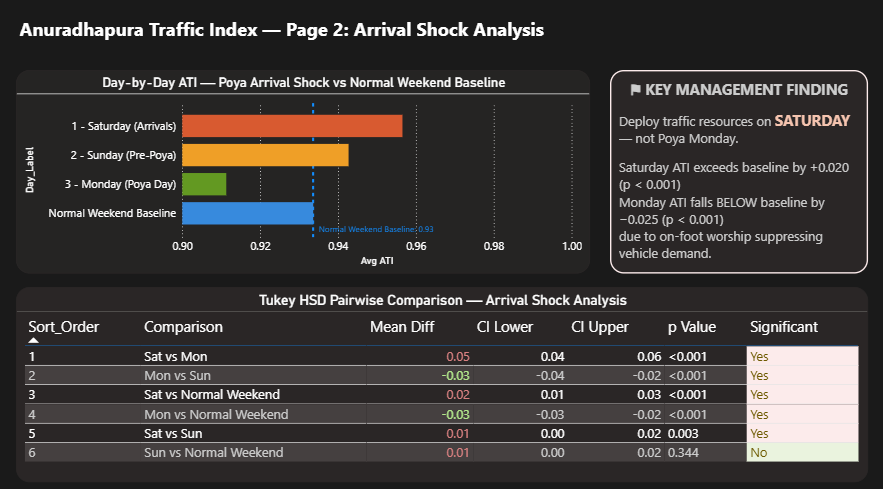

What the dashboard file says about the page in this screenshot:
{"tool":"powerbi","page":{"name":"Page 2_Arrival Shock Analysis","canvas":[1280,720],"ordinal":1},"visuals":[{"type":"clusteredBarChart","title":"Day-by-Day ATI — Poya Arrival Shock vs Normal Weekend Baseline","fields":{"Category":["CombinedData (2).Day_Label "],"Y":["CombinedData (2).Avg ATI"]},"box":[23,102.2,832.3,295.2],"z":0},{"type":"tableEx","title":"Tukey HSD Pairwise Comparison — Arrival Shock Analysis","fields":{"Values":["Tukey_Results.Sort_Order ","Tukey_Results.Comparison","Tukey_Results.Mean Diff","Tukey_Results.CI Lower","Tukey_Results.CI Upper","Tukey_Results.p Value","Tukey_Results.Significant"]},"box":[23.3,417.1,1235.2,282.9],"z":1000},{"type":"textbox","box":[884.2,102.2,374.4,295.2],"z":3000},{"type":"textbox","box":[23,20.2,1219.7,54.7],"z":4000}]}

Visuals, with their boxes in screenshot pixels (x1, y1, x2, y2), scaled from the page's 1280x720 canvas onto the 883x489 screenshot:
"Day-by-Day ATI — Poya Arrival Shock vs Normal Weekend Baseline" clusteredBarChart: left=16, top=69, right=590, bottom=270
"Tukey HSD Pairwise Comparison — Arrival Shock Analysis" tableEx: left=16, top=283, right=868, bottom=475
textbox: left=610, top=69, right=868, bottom=270
textbox: left=16, top=14, right=857, bottom=51
